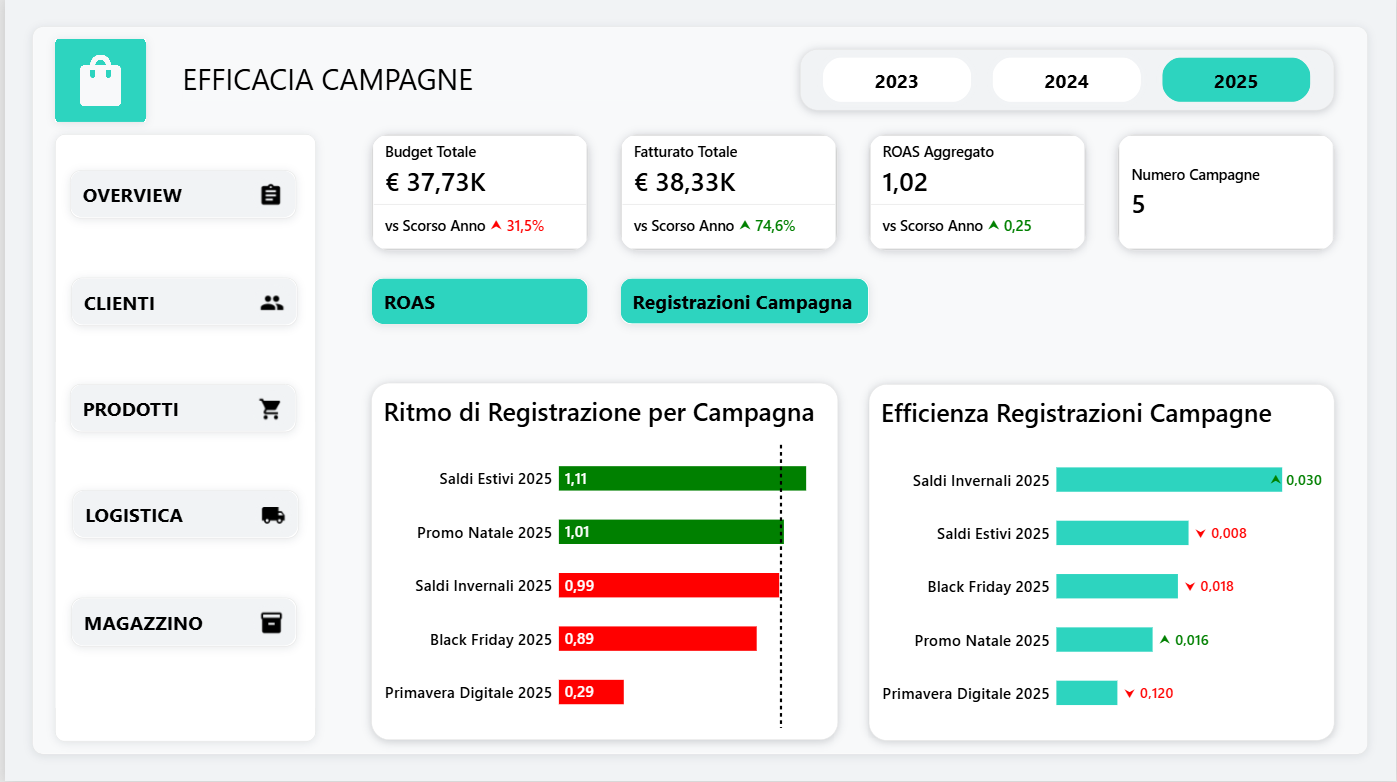

What the dashboard file says about the page in this screenshot:
{"tool":"powerbi","page":{"name":"Campagne","canvas":[1920,1080],"ordinal":3},"visuals":[{"type":"shape","box":[38.2,38.2,1841.8,1003.6],"z":0},{"type":"shape","box":[69.1,185.5,360,838.2],"z":1000},{"type":"actionButton","box":[89.1,236.4,312,66],"z":2000},{"type":"actionButton","box":[91.5,383.6,312,66],"z":3000},{"type":"actionButton","box":[90.3,530.9,312,66],"z":4000},{"type":"actionButton","box":[92.7,678.2,312,66],"z":5000},{"type":"actionButton","box":[91.5,825.5,310.9,67.3],"z":6000},{"type":"image","box":[69.1,54.5,125.5,114.5],"z":7000},{"type":"textbox","title":"EFFICACIA CAMPAGNE","box":[244,83.2,821.6,57.9],"z":8000},{"type":"advancedSlicerVisual","fields":{"Values":["Data.Anno"]},"box":[1096.7,68.8,736.5,85.1],"z":9000},{"type":"cardVisual","fields":{"Data":["gold dim_campagne.Budget Totale"]},"box":[504.9,185.8,300,161.1],"z":10000},{"type":"cardVisual","fields":{"Data":["gold dim_campagne.ROAS Aggregato"]},"box":[1191.1,186.1,300,161.1],"z":11000},{"type":"cardVisual","fields":{"Data":["gold dim_campagne.Fatturato Campagne Totale"]},"box":[848,185.9,300,161.1],"z":12000},{"type":"cardVisual","fields":{"Data":["gold dim_campagne.Numero Campagne"]},"box":[1534.2,186.2,300,161.1],"z":13000},{"type":"actionButton","box":[504.9,383.6,299.8,65.2],"z":16000},{"type":"actionButton","box":[847.7,383.7,343.6,64.5],"z":17000},{"type":"barChart","title":"Ritmo di Registrazione per Campagna","fields":{"Category":["gold dim_campagne.nome_campagna"],"Y":["gold dim_campagne.Indice registrazione campagna"]},"box":[504.7,530.1,643.6,492.9],"z":18000},{"type":"barChart","title":"Efficienza Registrazioni Campagne","fields":{"Category":["gold dim_campagne.nome_campagna"],"Y":["gold dim_campagne.Efficienza Registrazione (per 1000eu-giorno)"]},"box":[1190.8,530.2,642.4,492.2],"z":19000}]}

Visuals, with their boxes in screenshot pixels (x1, y1, x2, y2), scaled from the page's 1920x1080 canvas onto the 1397x782 screenshot:
shape: box(28, 28, 1368, 754)
shape: box(50, 134, 312, 741)
actionButton: box(65, 171, 292, 219)
actionButton: box(67, 278, 294, 326)
actionButton: box(66, 384, 293, 432)
actionButton: box(67, 491, 294, 539)
actionButton: box(67, 598, 293, 646)
image: box(50, 39, 142, 122)
"EFFICACIA CAMPAGNE" textbox: box(178, 60, 775, 102)
advancedSlicerVisual - Data.Anno: box(798, 50, 1334, 111)
cardVisual - gold dim_campagne.Budget Totale: box(367, 135, 586, 251)
cardVisual - gold dim_campagne.ROAS Aggregato: box(867, 135, 1085, 251)
cardVisual - gold dim_campagne.Fatturato Campagne Totale: box(617, 135, 835, 251)
cardVisual - gold dim_campagne.Numero Campagne: box(1116, 135, 1335, 251)
actionButton: box(367, 278, 586, 325)
actionButton: box(617, 278, 867, 325)
"Ritmo di Registrazione per Campagna" barChart: box(367, 384, 836, 741)
"Efficienza Registrazioni Campagne" barChart: box(866, 384, 1334, 740)
